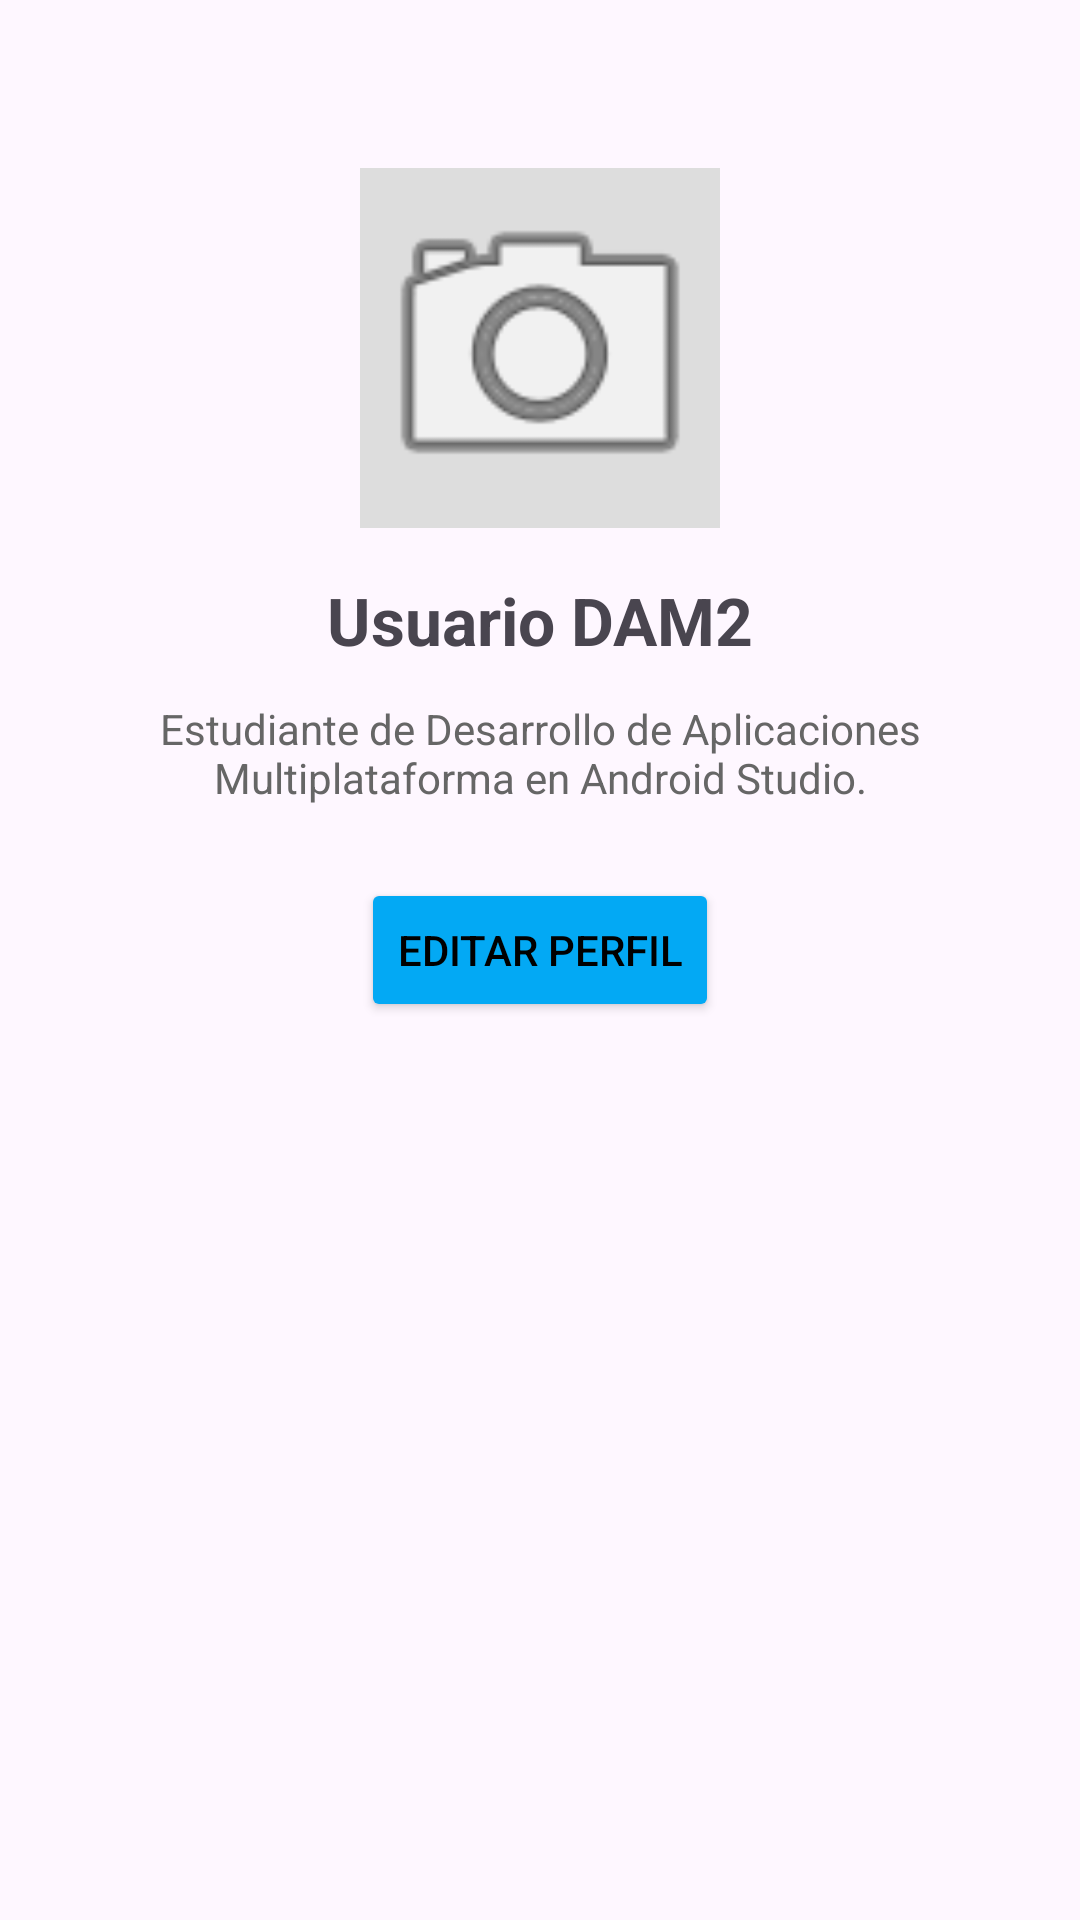

Where to tap for icons on this 1080 × 1920 app screen, as (x=x, y=y):
Foto de perfil: (x=540, y=348)
